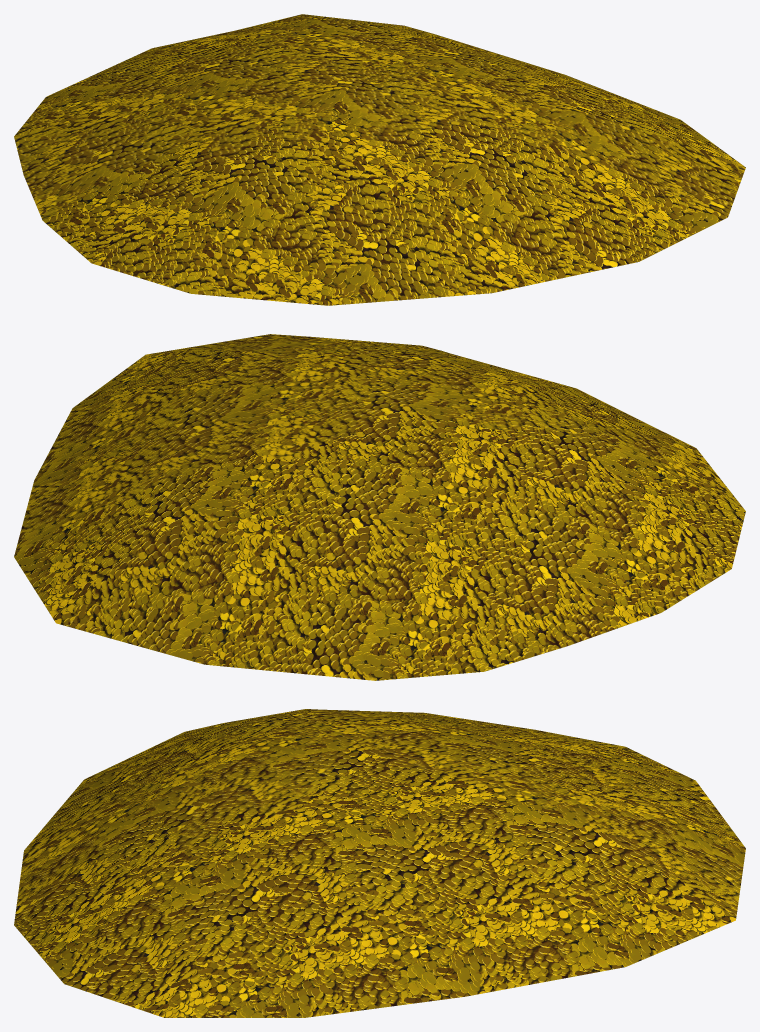
File: INST_SM_GOLDPILE_MEDIUMD.fbx
The picture shows the model from 3 angles, top to bottom: view 1: azimuth 30°, elevation 25°; view 2: azimuth 150°, elevation 25°; view 3: azimuth 270°, elevation 25°; orthographic projection. The views are drawn at different scales.
Parts seen in each view (by area): view 1: INST_SM_GOLDPILE_MEDIUMD; view 2: INST_SM_GOLDPILE_MEDIUMD; view 3: INST_SM_GOLDPILE_MEDIUMD.
Part boxes in pixels (x1,y1,x2,y2): INST_SM_GOLDPILE_MEDIUMD: (14, 14, 745, 305); INST_SM_GOLDPILE_MEDIUMD: (14, 334, 745, 680); INST_SM_GOLDPILE_MEDIUMD: (14, 709, 745, 1017).
Bounding box in the file's own units: 91098 × 13958 × 91250.
1 material, 1 textured.
